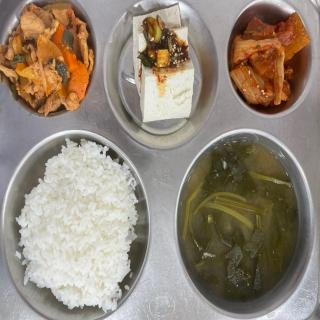Nasi: (24, 149, 140, 306)
